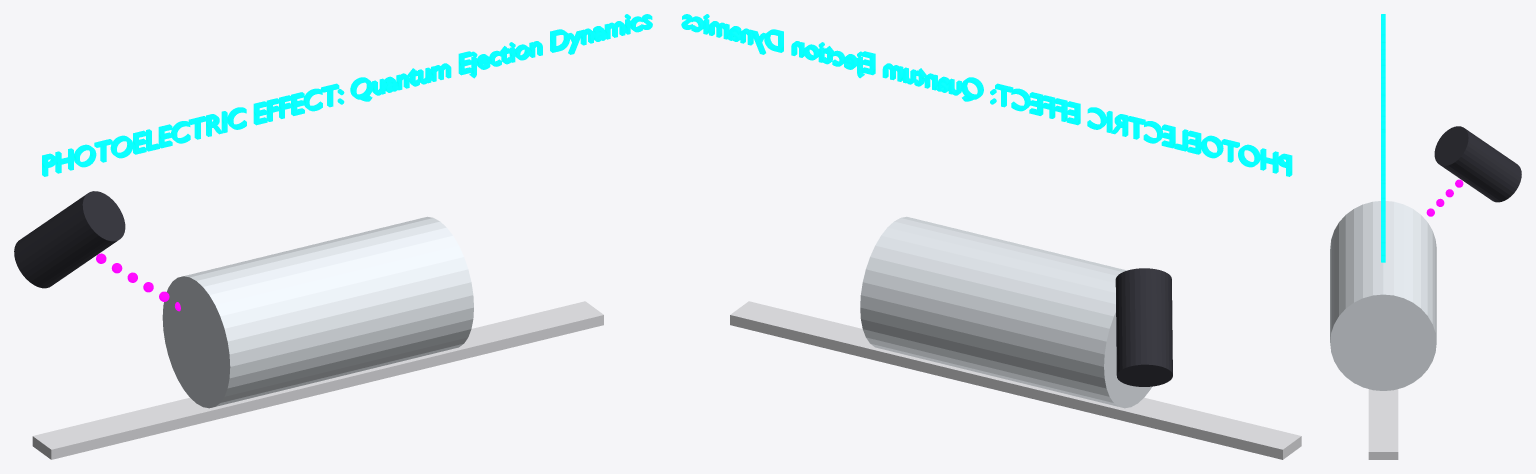
The model's file is photoelectric2.glb.
The picture shows the model from 3 angles, left to right: view 1: azimuth 30°, elevation 25°; view 2: azimuth 150°, elevation 25°; view 3: azimuth 270°, elevation 25°; orthographic projection. The views are drawn at different scales.
Visible parts, largest first — view 1: Quartz_Phototube_Envelope, Optical_Rail_Base, Text, UV_Arc_Lamp_Housing; view 2: Quartz_Phototube_Envelope, Optical_Rail_Base, Text, UV_Arc_Lamp_Housing; view 3: Quartz_Phototube_Envelope, UV_Arc_Lamp_Housing, Optical_Rail_Base, Text.
Part boxes in pixels (<box>): Quartz_Phototube_Envelope: <box>162,216,473,408</box>; Optical_Rail_Base: <box>32,301,603,459</box>; Text: <box>42,14,652,176</box>; UV_Arc_Lamp_Housing: <box>14,191,125,288</box>; Quartz_Phototube_Envelope: <box>860,216,1151,408</box>; Optical_Rail_Base: <box>730,301,1301,459</box>; Text: <box>681,14,1292,176</box>; UV_Arc_Lamp_Housing: <box>1115,268,1172,386</box>; Quartz_Phototube_Envelope: <box>1330,201,1436,390</box>; UV_Arc_Lamp_Housing: <box>1434,126,1521,202</box>; Optical_Rail_Base: <box>1368,389,1398,459</box>; Text: <box>1381,14,1385,262</box>.
Size of the model in its own units: 18.75 by 8.72 by 6.47.
